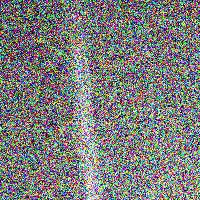scratches: (65, 11, 104, 200)
